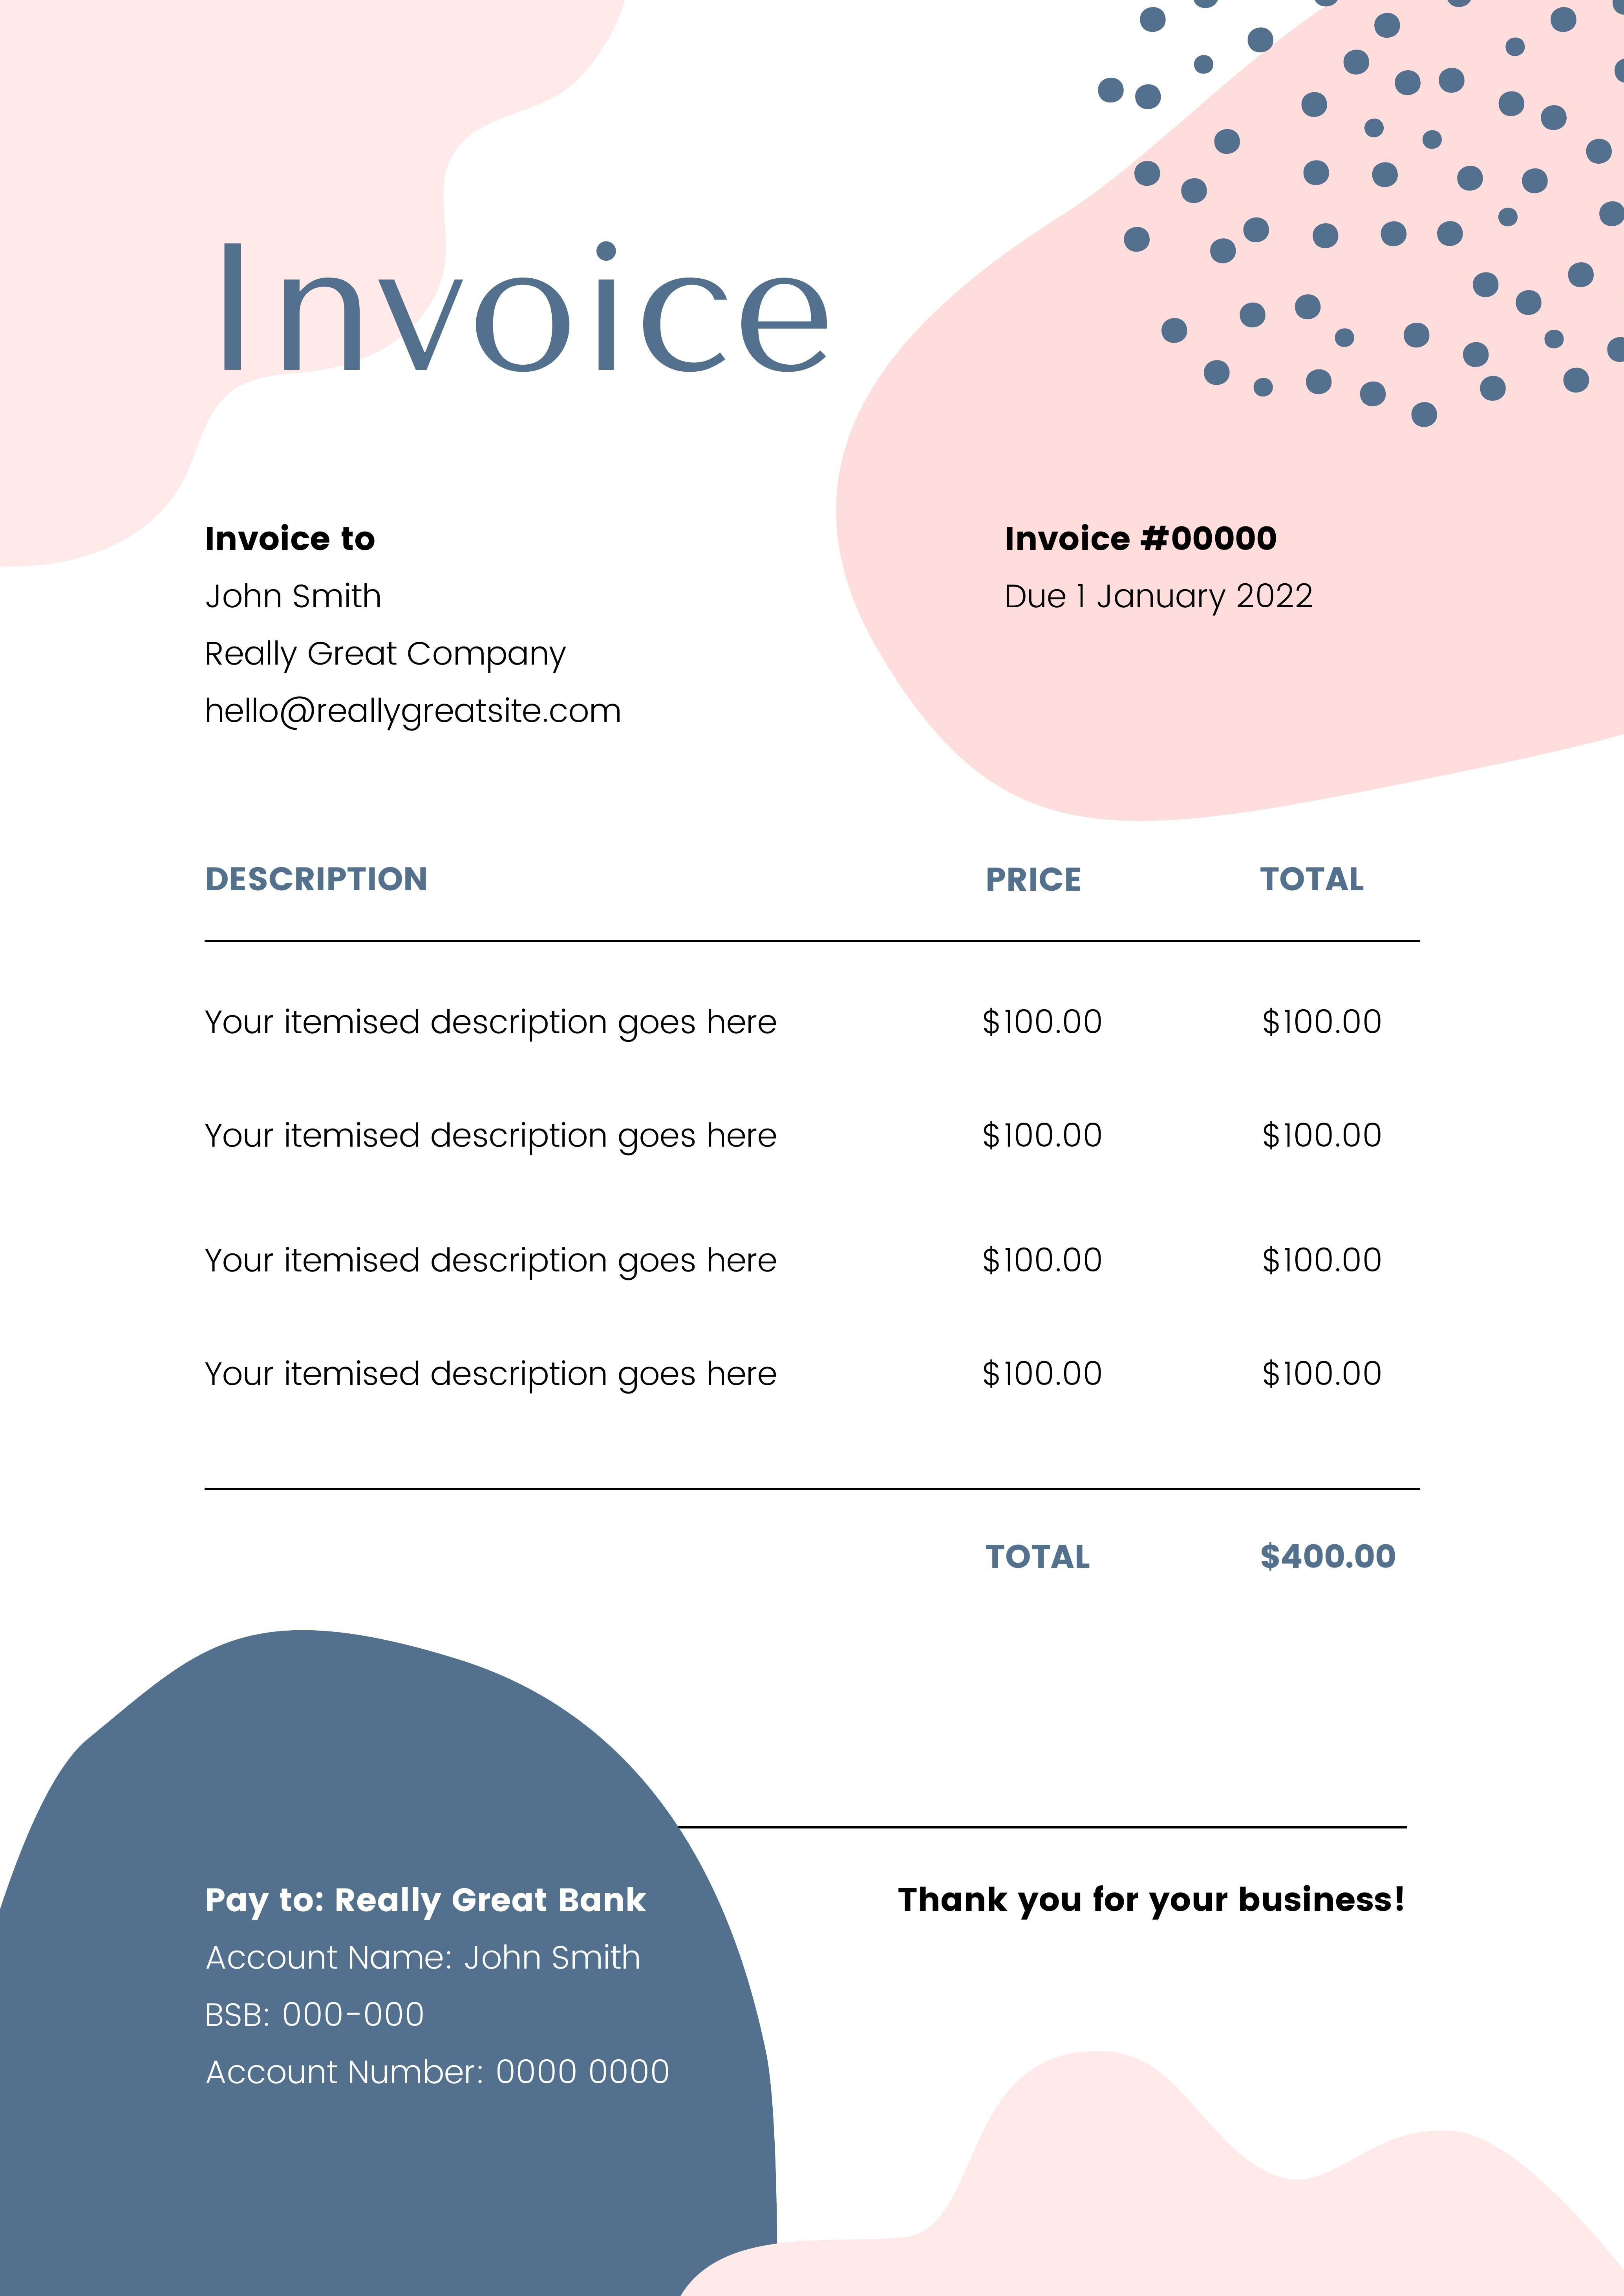ROI: (195, 853, 1400, 1400), (198, 1869, 678, 2111), (193, 515, 628, 740), (993, 510, 1325, 625), (978, 1523, 1404, 1571)
